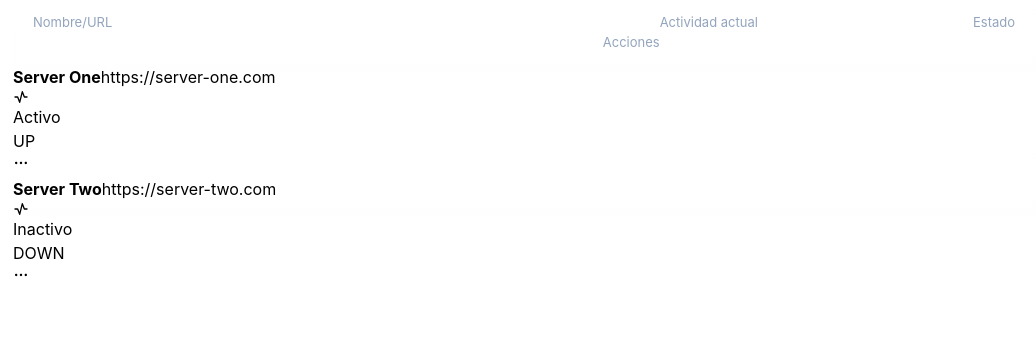
Test: StatusUptimes › opens and closes menu
Click the button named "Más opciones" below "UP".
click(21, 163)  # box [13,155,29,171]
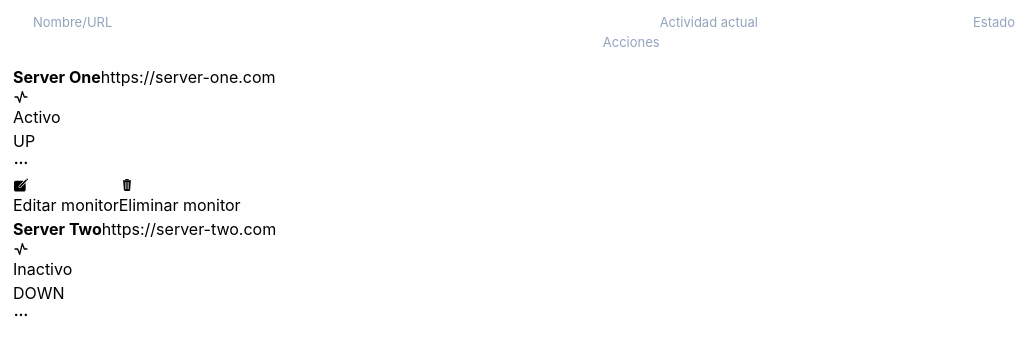
Check: the text "Editar monitor" is shown, box [13,195,119,215]
Check: the text "Eliminar monitor" is shown, box [119,195,241,215]
Press the mouse on the element that starts with "Nombre/URL" at (524, 165), box [12,0,1035,330]
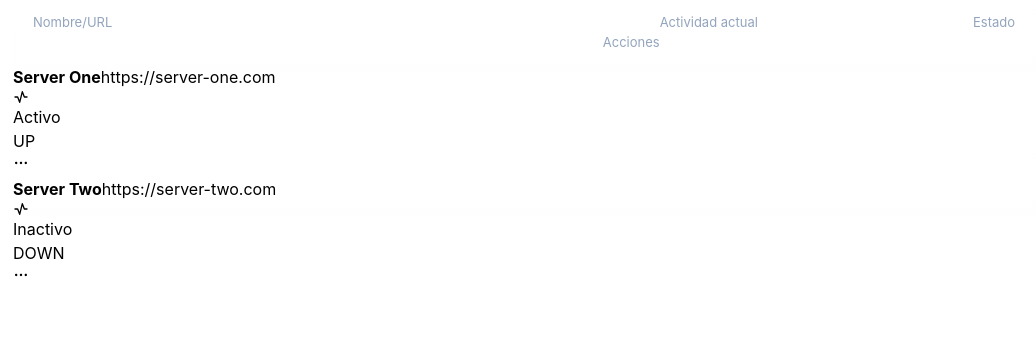
Check: the button "Editar monitor" is gone
